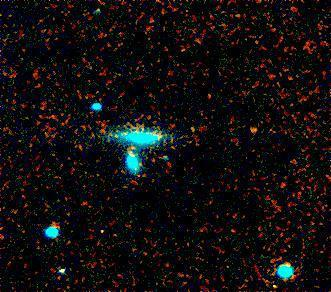star: (240, 115, 270, 145)
